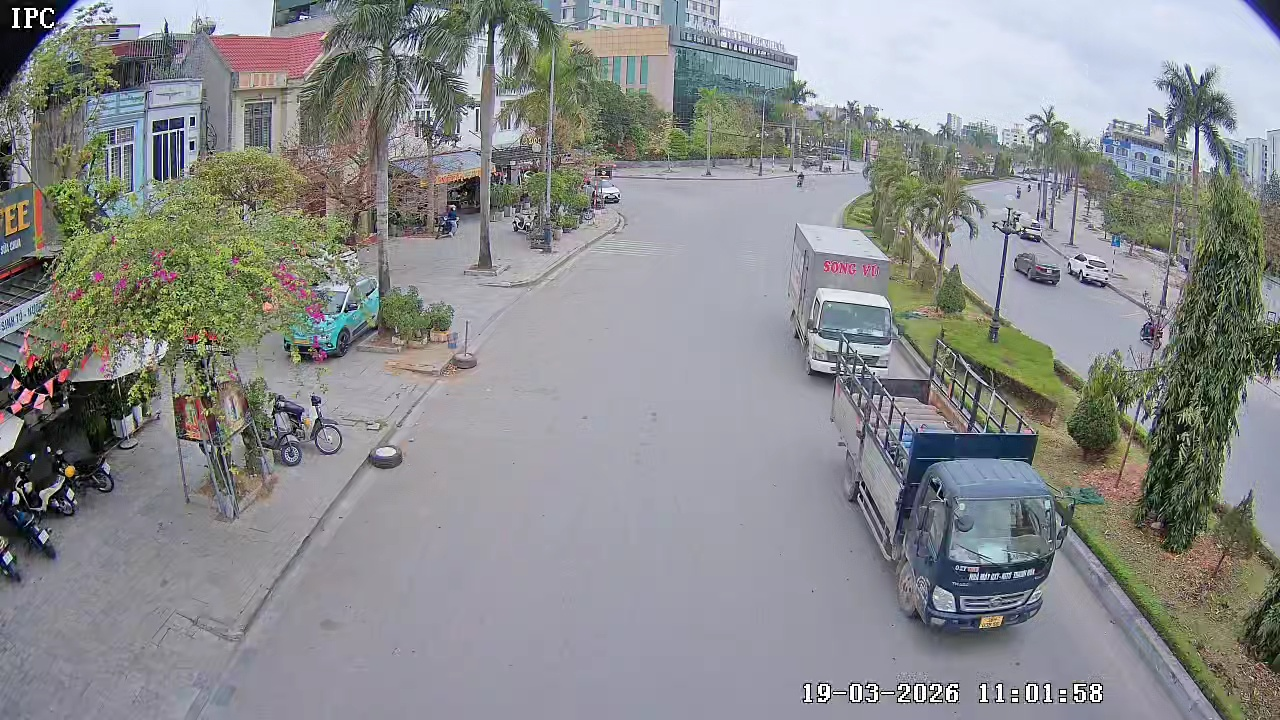bike: (273, 387, 344, 456), (260, 399, 303, 465)
car: (1014, 249, 1061, 287)
motorbike: (0, 530, 24, 584)
truck: (835, 396, 1066, 633), (788, 218, 895, 378)
